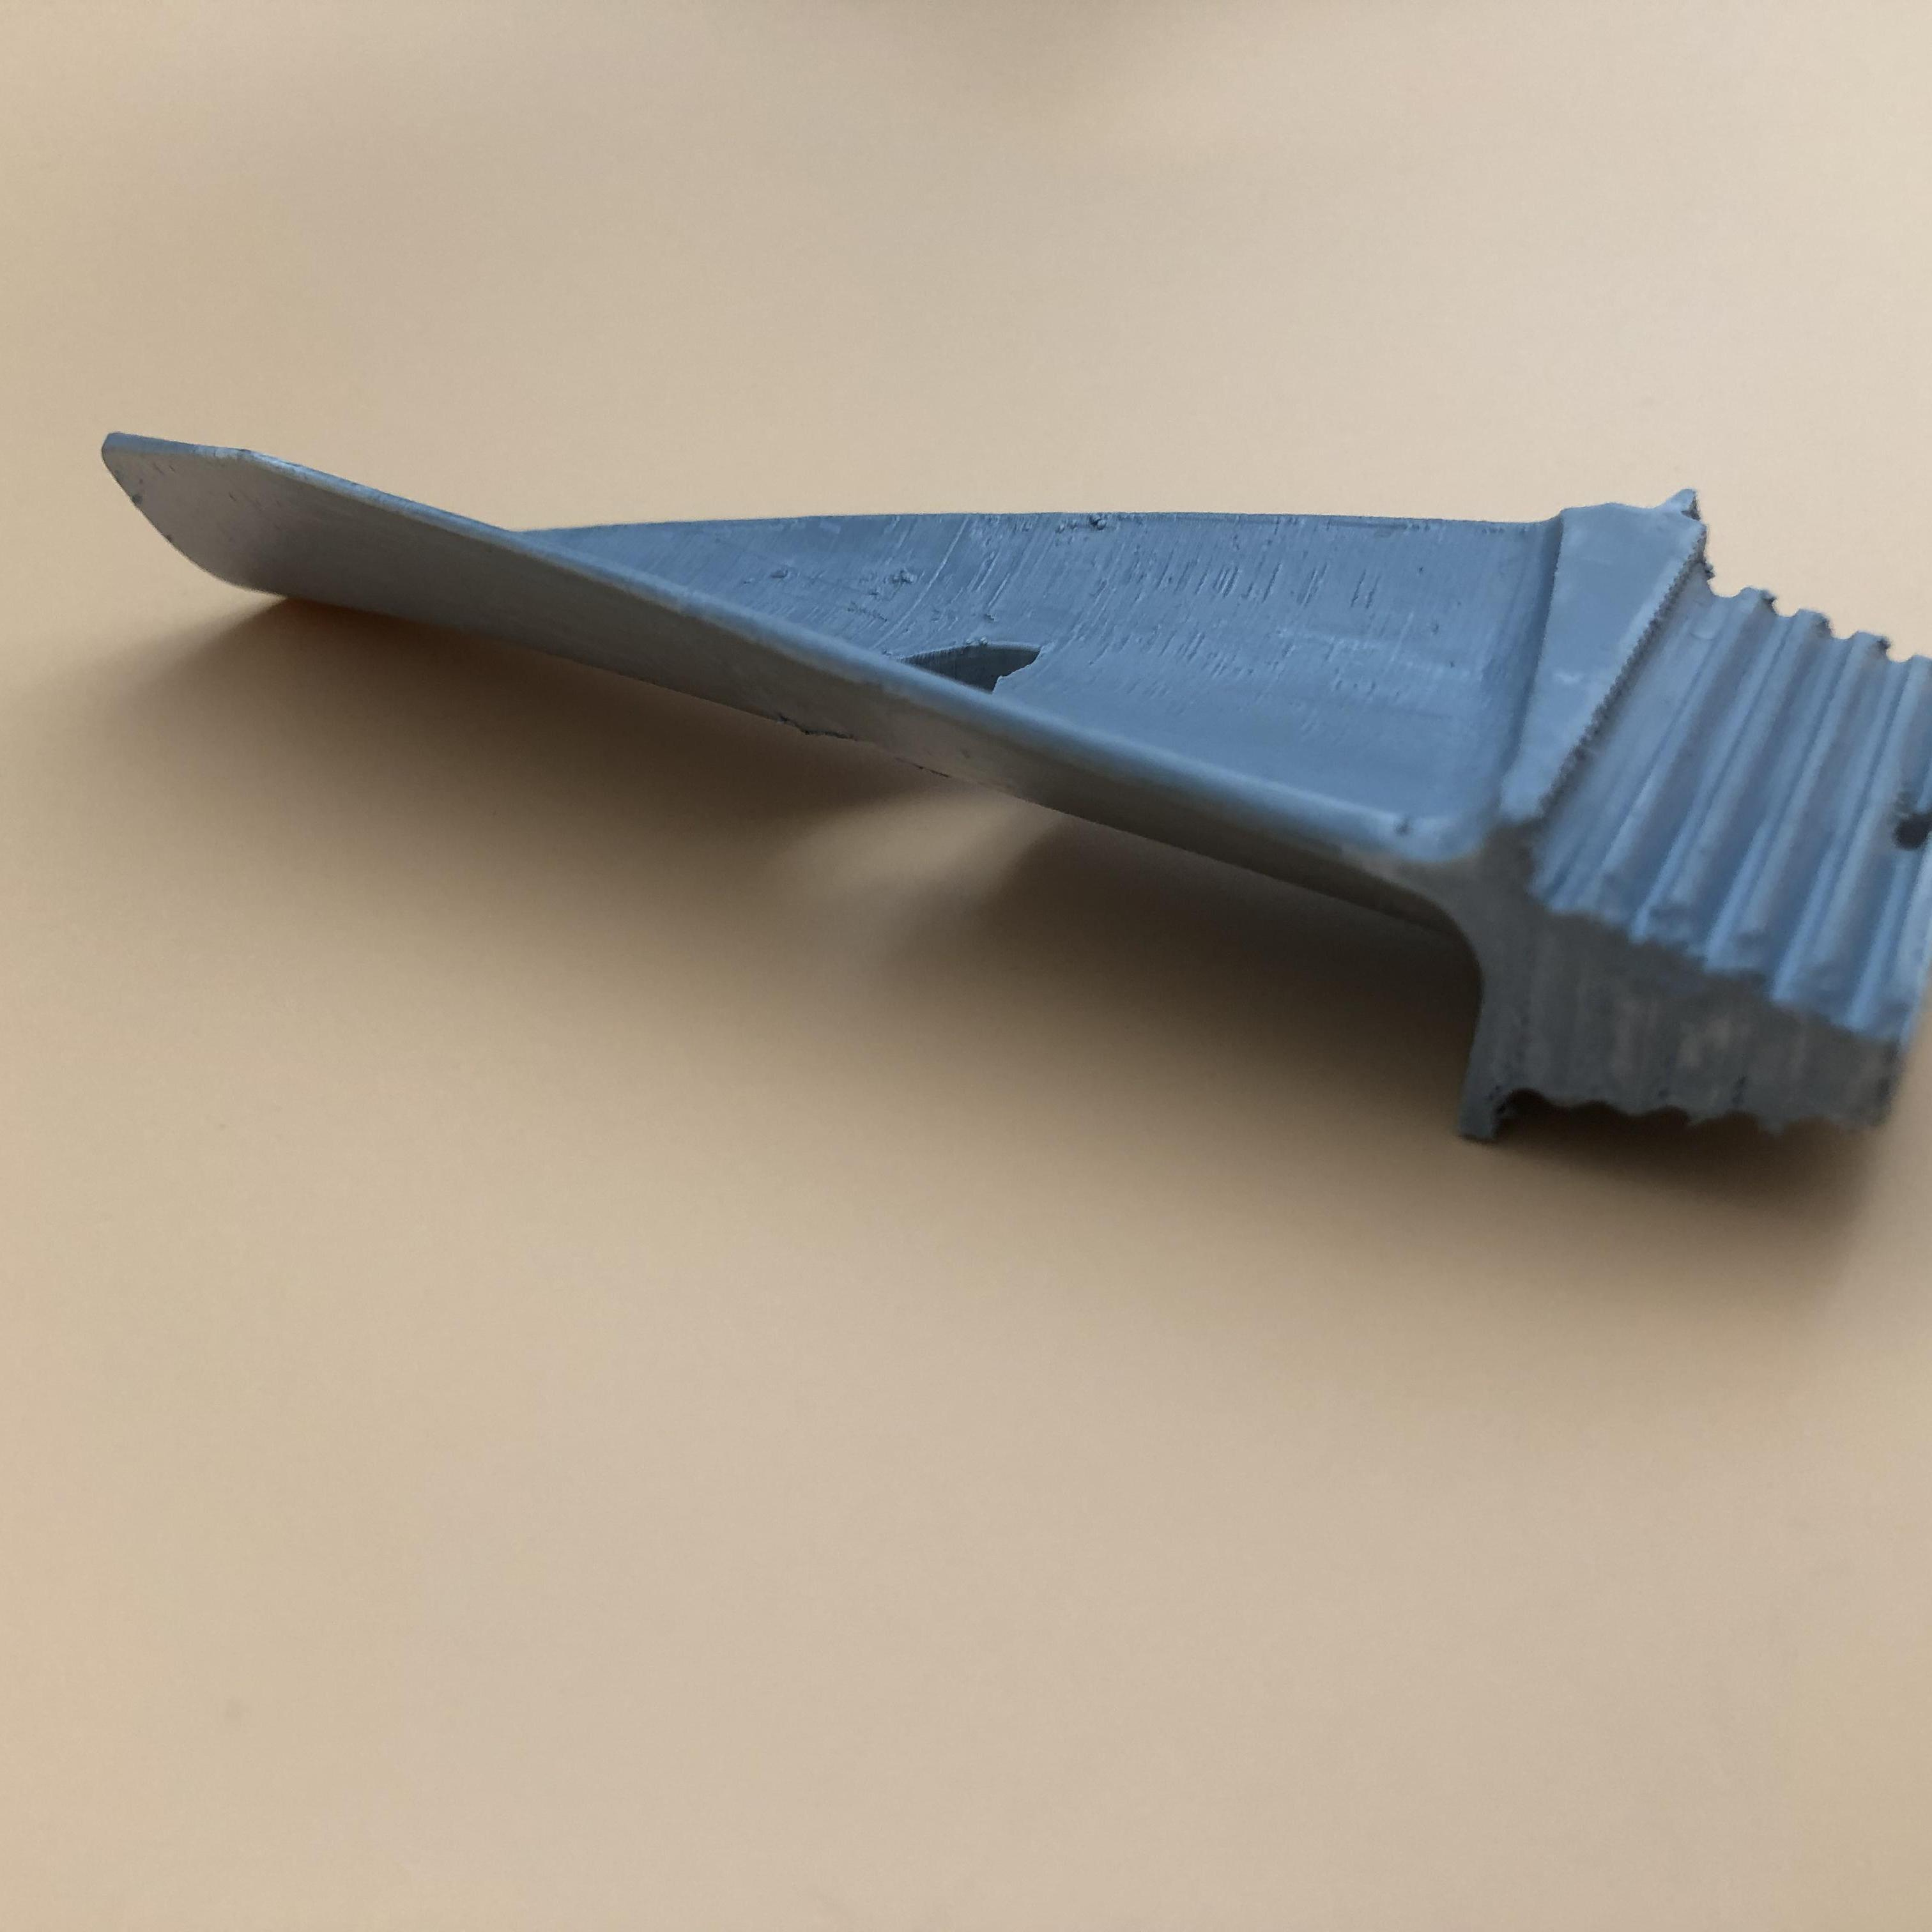breakdown: (895, 637, 1054, 706)
